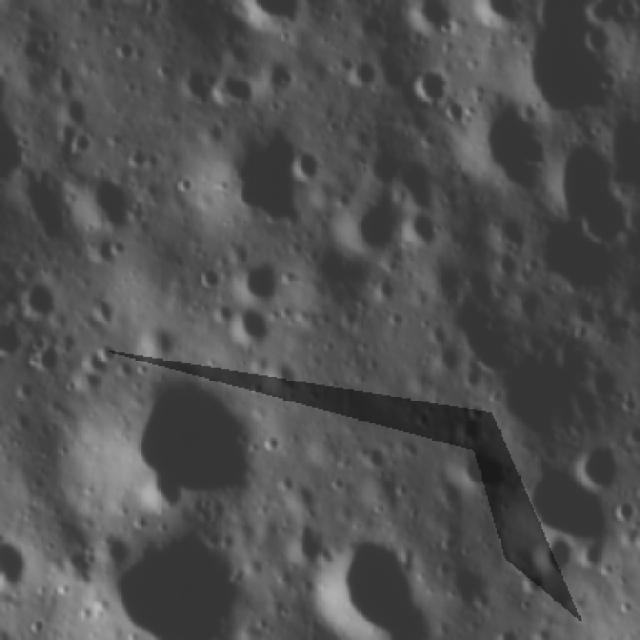crater: (95, 370, 240, 508), (100, 531, 248, 640), (300, 535, 438, 640), (517, 460, 609, 580), (61, 179, 127, 236), (453, 451, 509, 495), (237, 0, 300, 35), (236, 296, 276, 350), (10, 280, 64, 320), (0, 530, 26, 595), (408, 64, 450, 104), (403, 0, 449, 35), (243, 261, 289, 296), (212, 72, 253, 110), (283, 146, 320, 183), (345, 56, 381, 90), (405, 206, 443, 237), (475, 0, 511, 31), (267, 59, 302, 87), (0, 318, 25, 352), (608, 0, 638, 20), (0, 0, 42, 5)
